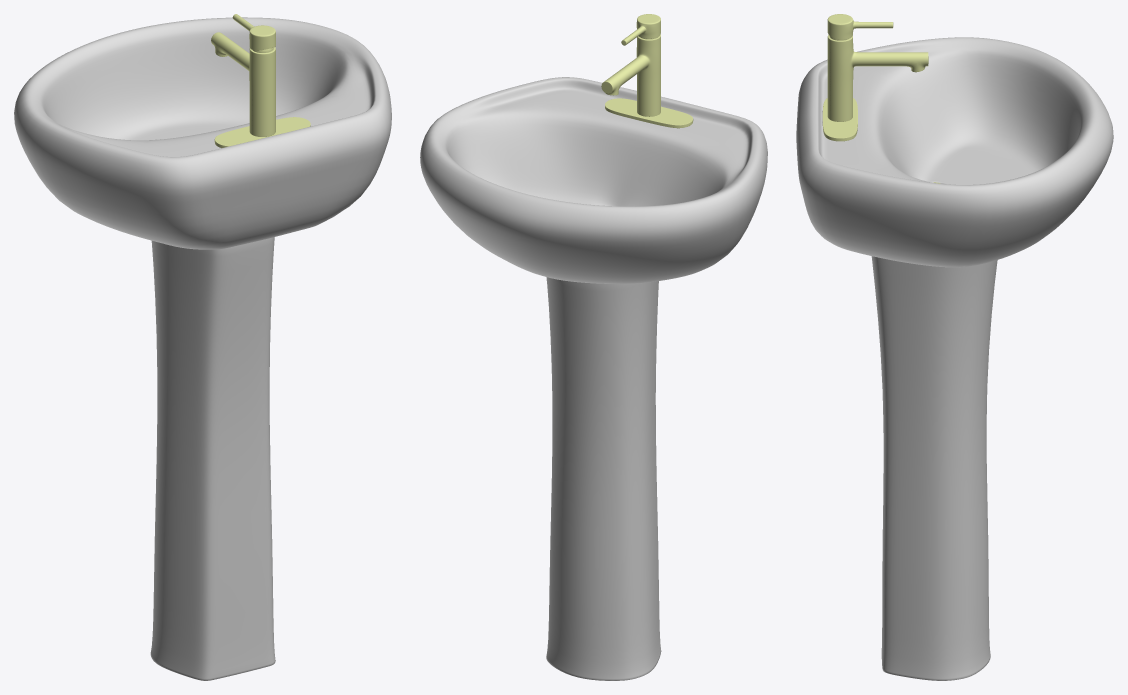
3 renders of one model, left to right at view 1: azimuth 30°, elevation 25°; view 2: azimuth 150°, elevation 25°; view 3: azimuth 270°, elevation 25°, orthographic. The views are drawn at different scales.
Visible parts, largest first — view 1: Sink, Faucet; view 2: Sink, Faucet; view 3: Sink, Faucet.
Part boxes in pixels (left/top/right/bottom): Sink: left=14, top=17, right=391, bottom=680; Faucet: left=211, top=14, right=310, bottom=148; Sink: left=420, top=77, right=767, bottom=680; Faucet: left=601, top=14, right=693, bottom=128; Sink: left=796, top=37, right=1113, bottom=680; Faucet: left=822, top=14, right=928, bottom=141.
Bounding box in the file's own units: 0.53 × 0.997 × 0.45.
